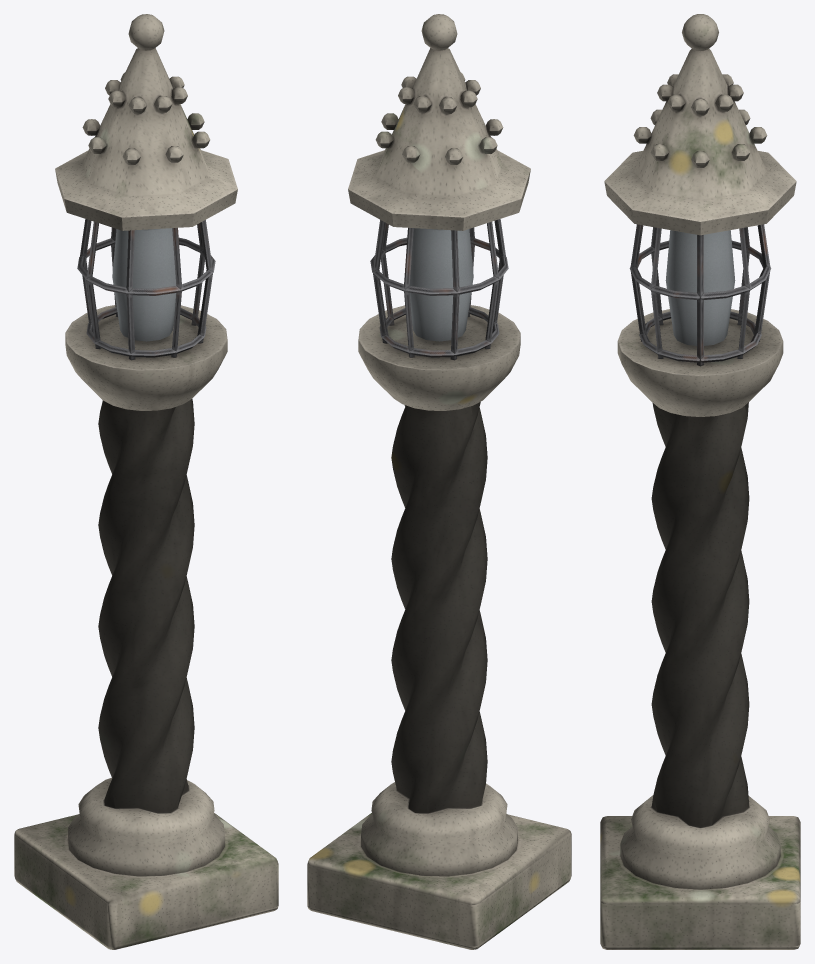
File: StoneLanternPost.fbx
3 views of the same model, side by side, from view 1: azimuth 30°, elevation 25°; view 2: azimuth 150°, elevation 25°; view 3: azimuth 270°, elevation 25° (orthographic).
Visible parts, largest first — view 1: StoneLanternPost_Main, StoneLanternPost_Glass; view 2: StoneLanternPost_Main, StoneLanternPost_Glass; view 3: StoneLanternPost_Main, StoneLanternPost_Glass.
Boxes of the visible parts, box(x1,y1,x2,y2) form: StoneLanternPost_Main: box(14, 14, 278, 949); StoneLanternPost_Glass: box(112, 228, 176, 341); StoneLanternPost_Main: box(307, 14, 571, 949); StoneLanternPost_Glass: box(409, 228, 473, 341); StoneLanternPost_Main: box(600, 14, 800, 949); StoneLanternPost_Glass: box(665, 230, 735, 345).
Bounding box in the file's own units: 150 × 739 × 150.
